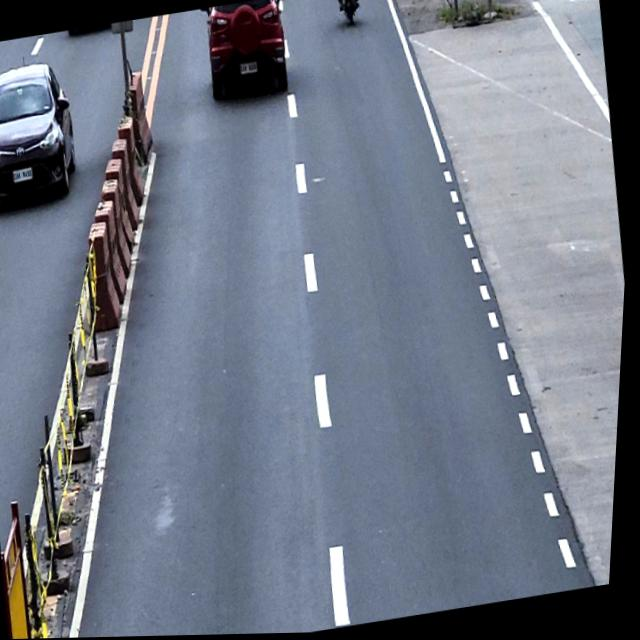Car: (0, 54, 87, 214), (197, 0, 297, 104)
License-Plate: (13, 165, 37, 184), (238, 61, 260, 77)
Motorcycle: (334, 0, 363, 28)
